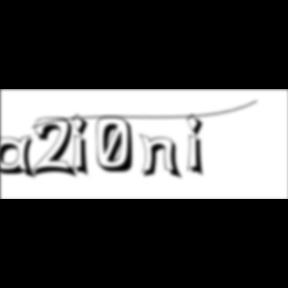0: (96, 115, 142, 174)
2: (31, 117, 81, 181)
a: (0, 135, 40, 182)
i: (72, 112, 96, 180), (187, 112, 211, 180)
n: (140, 132, 186, 181)
